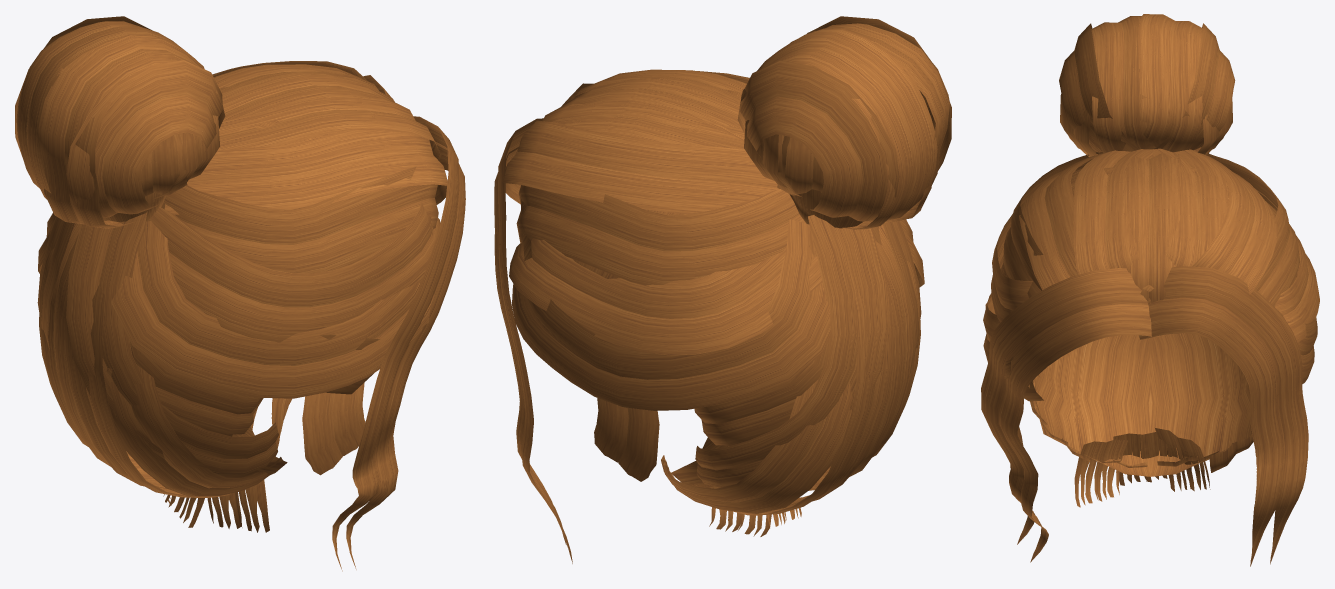
File: hair_2.FBX
3 views of the same model, side by side, from view 1: azimuth 30°, elevation 25°; view 2: azimuth 150°, elevation 25°; view 3: azimuth 270°, elevation 25° (orthographic). The views are drawn at different scales.
Parts seen in each view (by area): view 1: Line006, Line002, Line005, Line004, Line017, Line009, Line016, Shape001, Line019, Line008, Line001, Line022 (+8 smaller); view 2: Line013, Line010, Line012, Line011, Line020, Line019, Shape003, Line015, Shape002, Line008, Line001, Line023 (+7 smaller); view 3: h1, Shape002, Line009, Line002, Line010, Line019, Line001, Line016, Line017, Line020, Line011, Line004 (+10 smaller).
Part boxes in pixels (x1=…): Line006: x1=66, y1=211, x2=434, y2=477; Line002: x1=164, y1=96, x2=447, y2=214; Line005: x1=148, y1=202, x2=440, y2=342; Line004: x1=161, y1=166, x2=438, y2=273; Line017: x1=66, y1=60, x2=222, y2=217; Line009: x1=332, y1=116, x2=465, y2=571; Line016: x1=38, y1=35, x2=225, y2=228; Shape001: x1=109, y1=364, x2=282, y2=496; Line019: x1=16, y1=21, x2=196, y2=199; Line008: x1=64, y1=234, x2=230, y2=497; Line001: x1=222, y1=72, x2=394, y2=131; Line022: x1=302, y1=382, x2=365, y2=475; Line013: x1=512, y1=215, x2=889, y2=487; Line010: x1=502, y1=101, x2=779, y2=214; Line012: x1=509, y1=222, x2=822, y2=355; Line011: x1=516, y1=185, x2=805, y2=285; Line020: x1=740, y1=60, x2=899, y2=221; Line019: x1=737, y1=28, x2=937, y2=229; Shape003: x1=661, y1=379, x2=852, y2=513; Line015: x1=733, y1=241, x2=894, y2=515; Shape002: x1=494, y1=118, x2=572, y2=563; Line008: x1=808, y1=224, x2=920, y2=490; Line001: x1=550, y1=78, x2=744, y2=140; Line023: x1=594, y1=398, x2=659, y2=481; h1: x1=1000, y1=147, x2=1297, y2=476; Shape002: x1=1139, y1=266, x2=1308, y2=566; Line009: x1=981, y1=268, x2=1160, y2=562; Line002: x1=1019, y1=149, x2=1153, y2=289; Line010: x1=1150, y1=148, x2=1277, y2=294; Line019: x1=1138, y1=14, x2=1202, y2=152; Line001: x1=1115, y1=153, x2=1180, y2=302; Line016: x1=1091, y1=16, x2=1160, y2=152; Line017: x1=1059, y1=23, x2=1139, y2=152; Line020: x1=1154, y1=23, x2=1235, y2=150; Line011: x1=1205, y1=153, x2=1299, y2=306; Line004: x1=1003, y1=152, x2=1098, y2=297.
Bounding box in the file's own units: 32.2 × 41.25 × 26.75.
